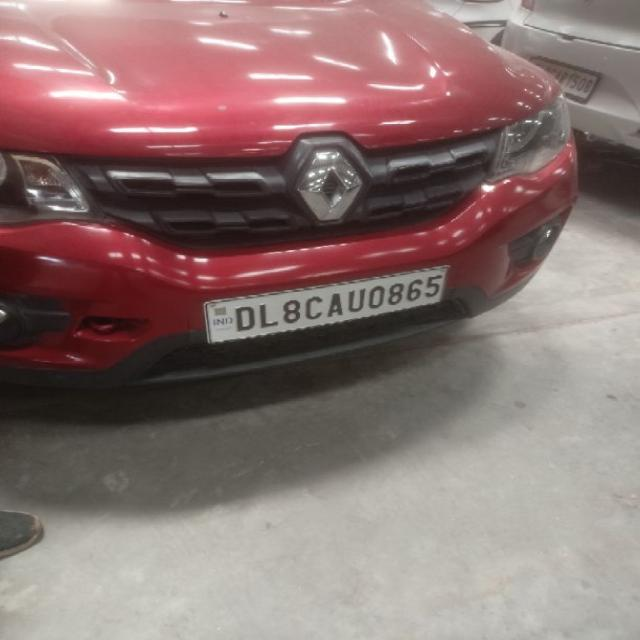license_plate: (202, 264, 450, 345), (525, 54, 600, 104)
